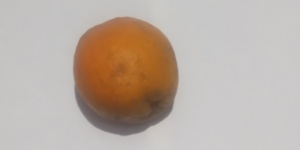BAD: (74, 14, 178, 124)
